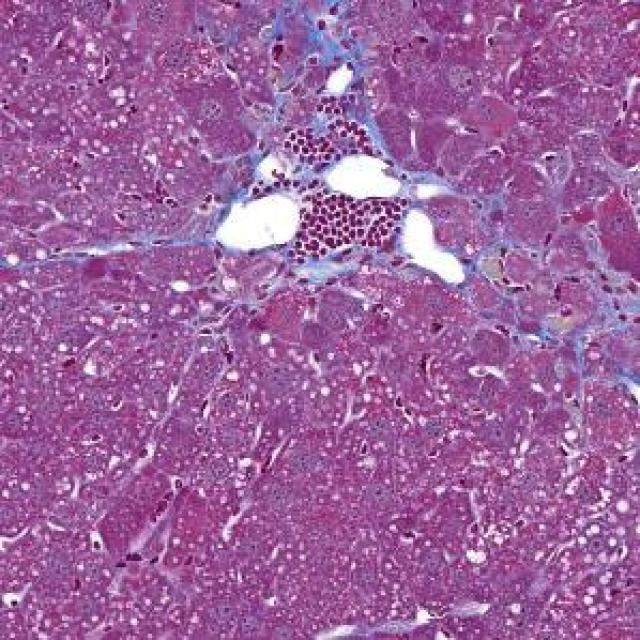fibrosis: (255, 88, 460, 280)
